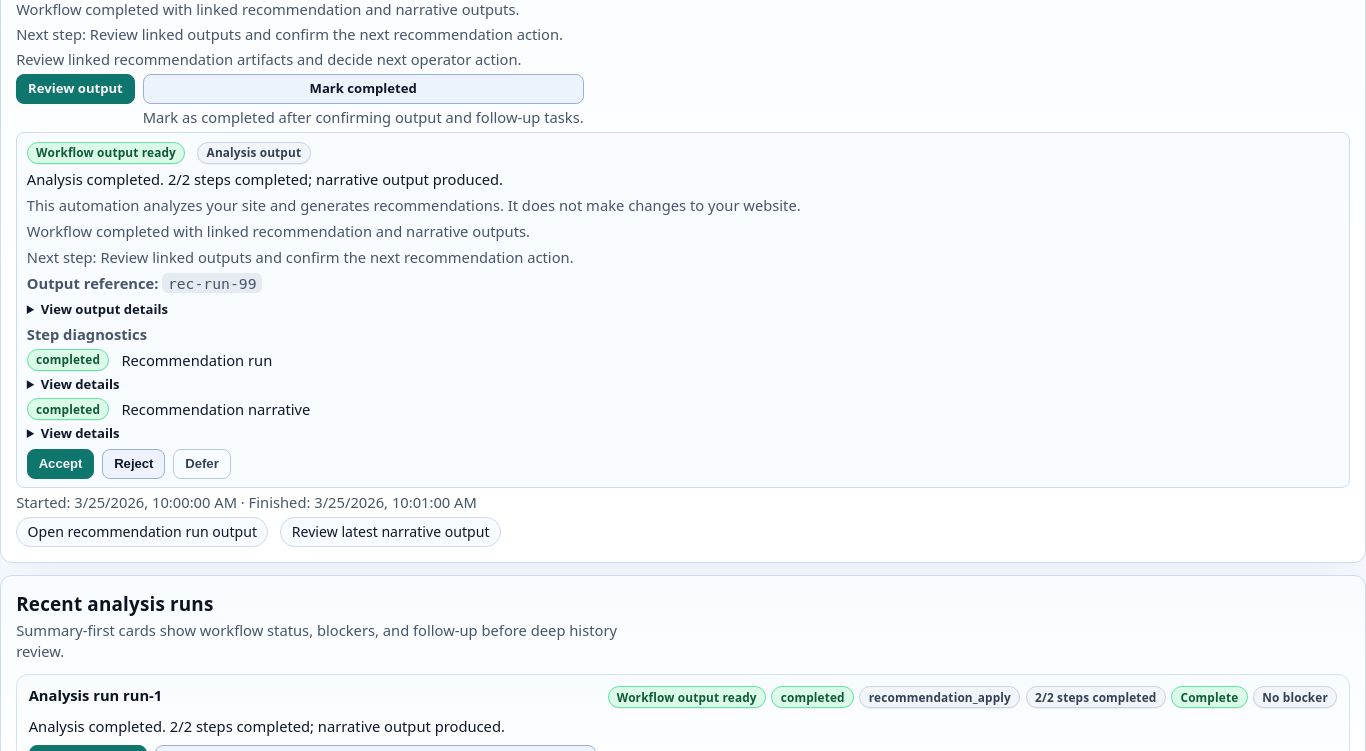
automation page shared-shell framing › renders summary cards and run table for a configured site
(page scrolled)
Expected: the element with test id "automation-quick-scan-item-run-1" shows "Workflow output ready", left=617, top=689, right=757, bottom=705
Expected: the element with test id "automation-quick-scan-item-run-1" shows "completed", left=781, top=689, right=845, bottom=705
Click the 1st heading "View details".
click(80, 384)  # box left=41, top=375, right=120, bottom=393
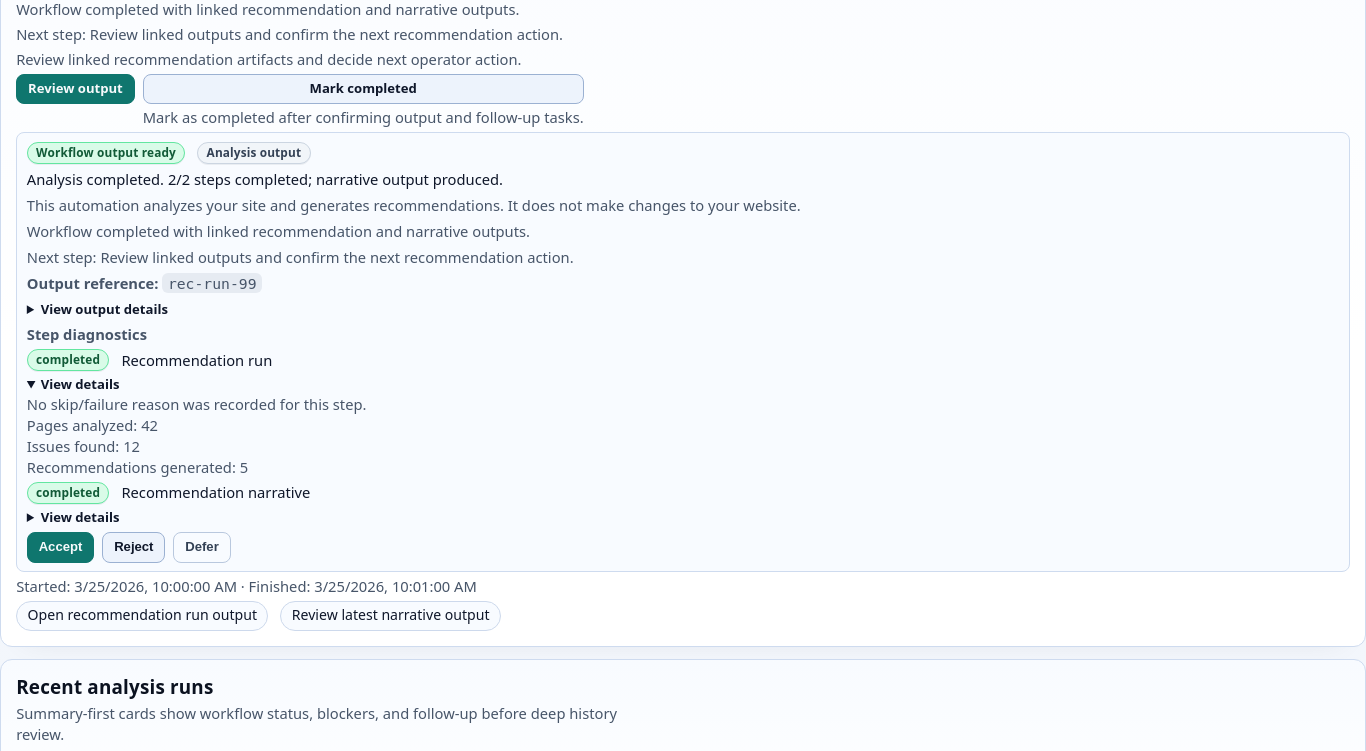
Expected: the element with test id "automation-latest-run-output-review" shows "Pages analyzed: 42", left=16, top=132, right=1350, bottom=572
Expected: the element with test id "automation-latest-run-output-review" shows "Issues found: 12", left=16, top=132, right=1350, bottom=572
Expected: the element with test id "automation-latest-run-output-review" shows "Recommendations generated: 5", left=16, top=132, right=1350, bottom=572
